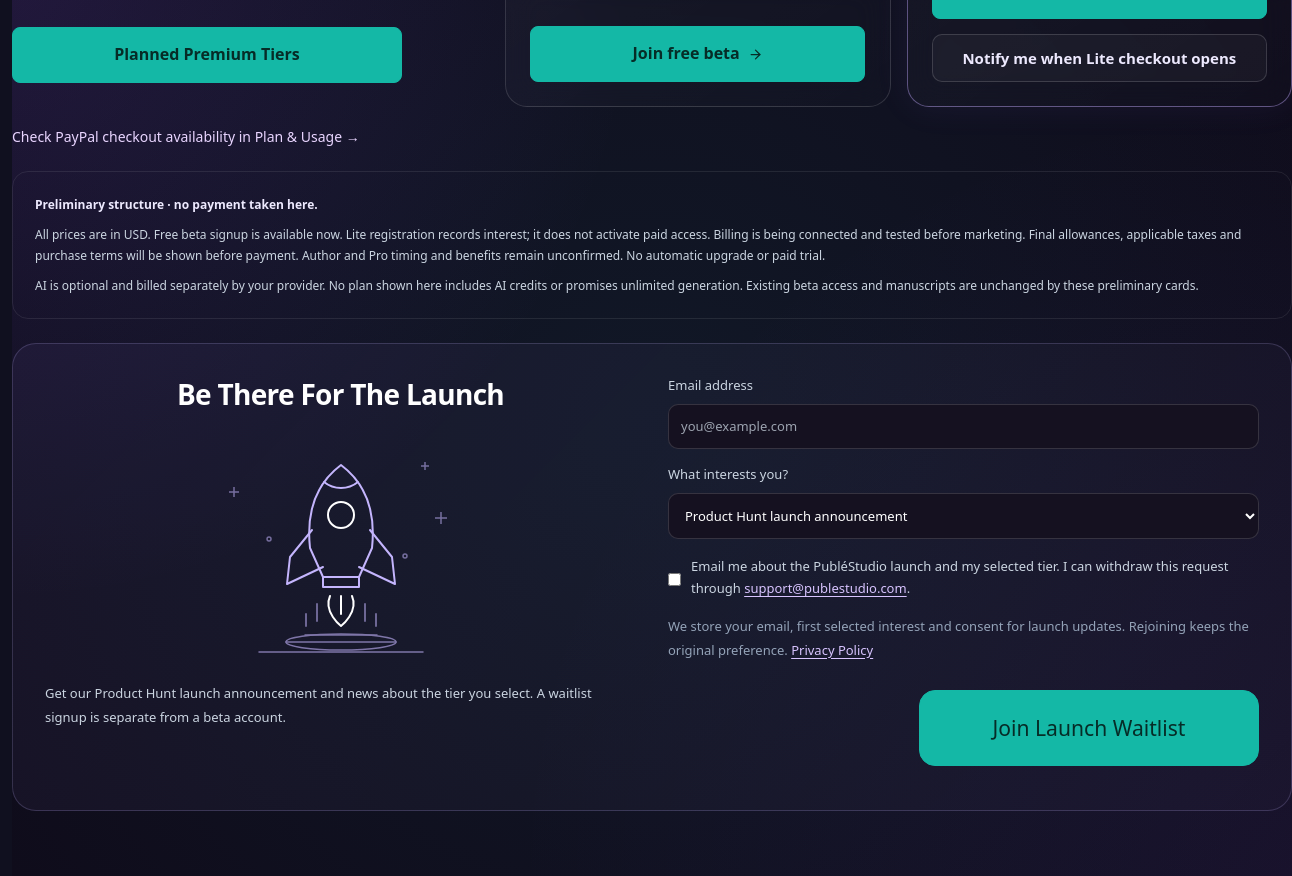
Test: keeps input for a retry after a network failure
This screenshot has width=1292, height=876.
(page scrolled)
Type "author@example.invalid" into the field labelled "Email address" at (964, 427), box 668,404 -> 1259,449
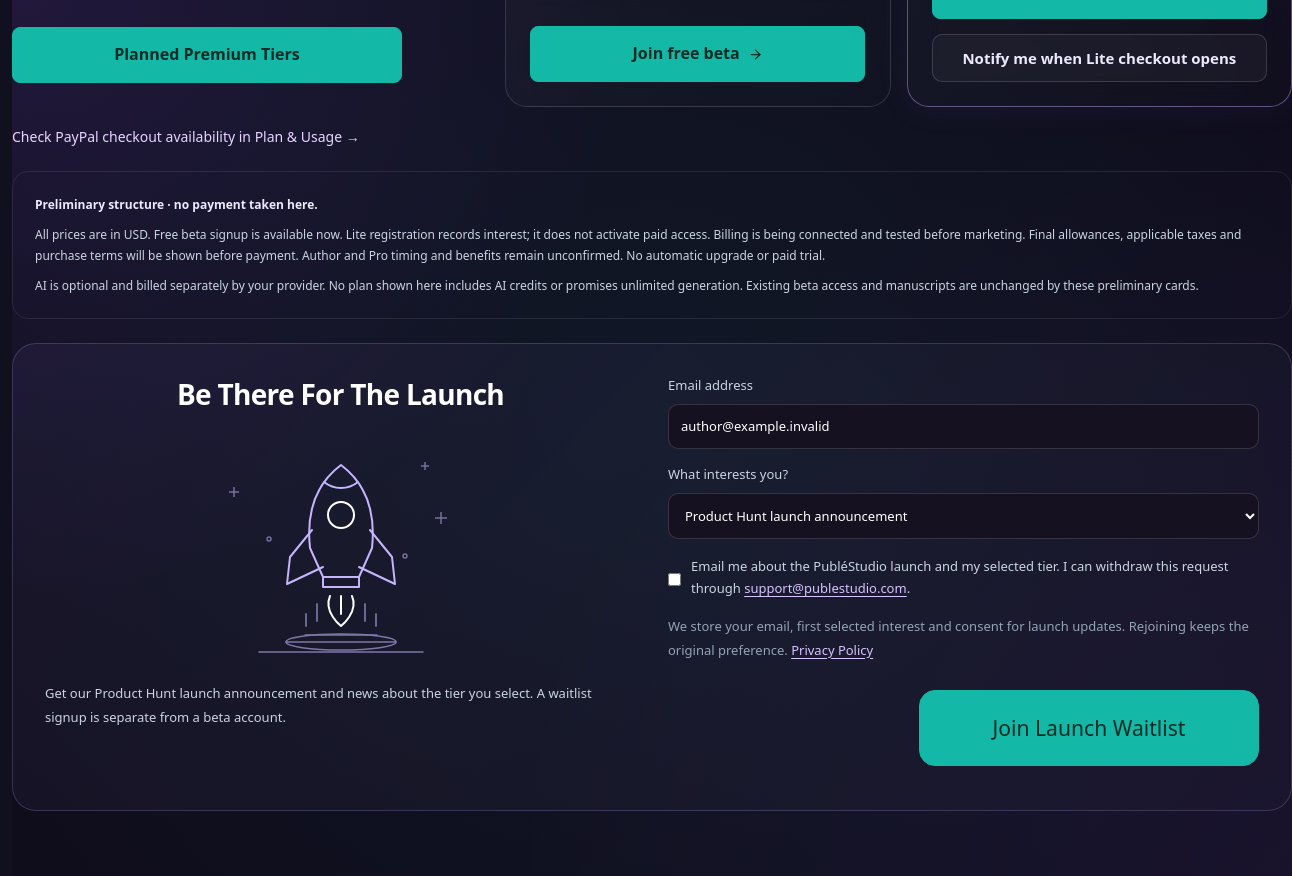
Click the checkbox at (674, 580), box 668,560 -> 681,599
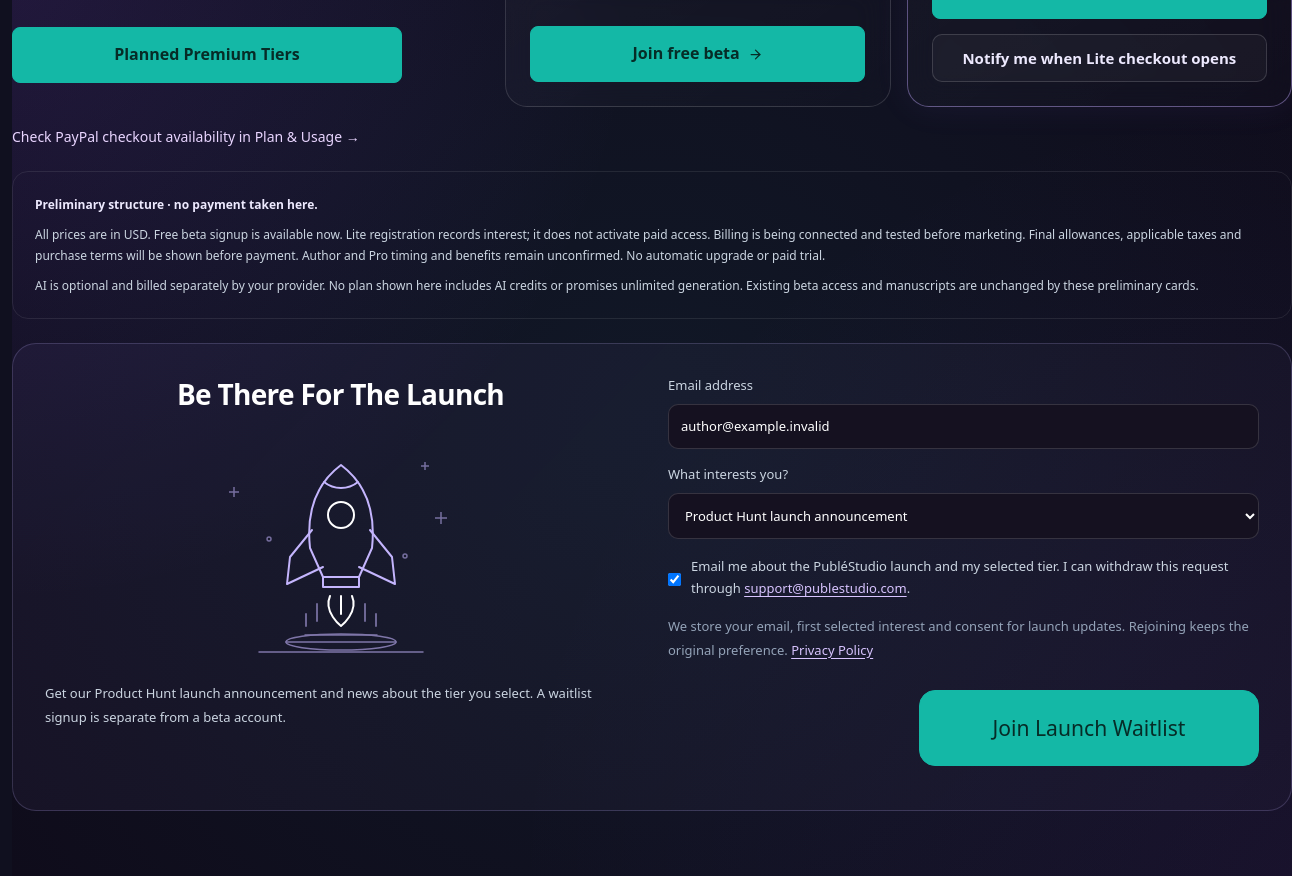
Click the button "Join Launch Waitlist" at (1089, 728), box 919,690 -> 1259,766
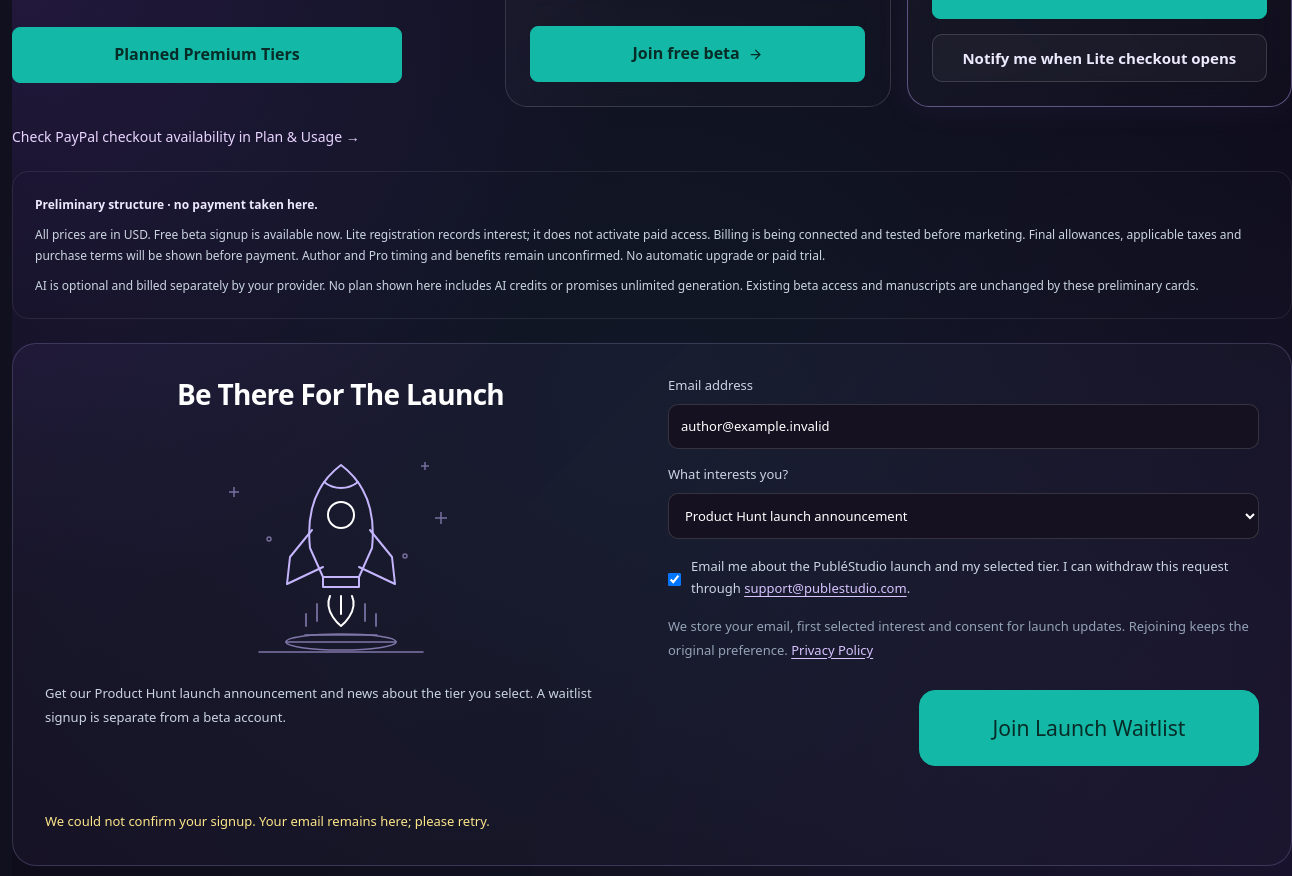
Now the message "We could not confirm your signup. Your email remains here; please retry." is shown, box 45,812 -> 490,830
